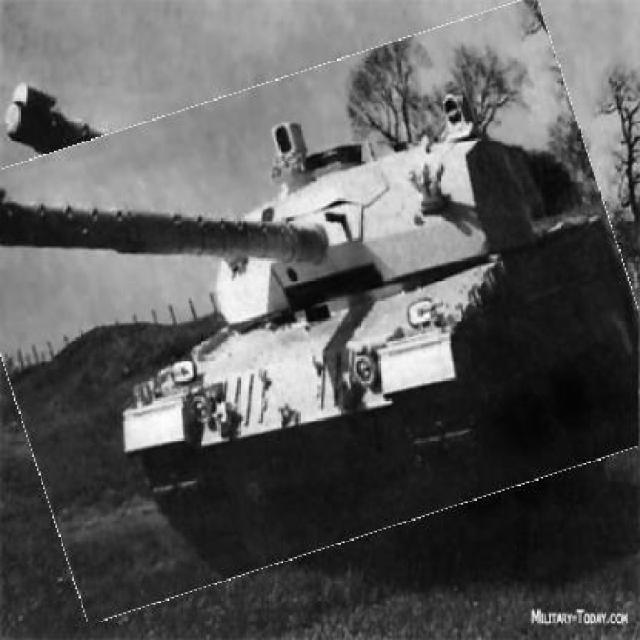Tank: (1, 36, 639, 582)
